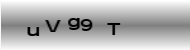9: (80, 18, 93, 31)
T: (106, 22, 121, 35)
V: (44, 19, 61, 33)
g: (66, 17, 80, 30)
u: (27, 25, 39, 36)
